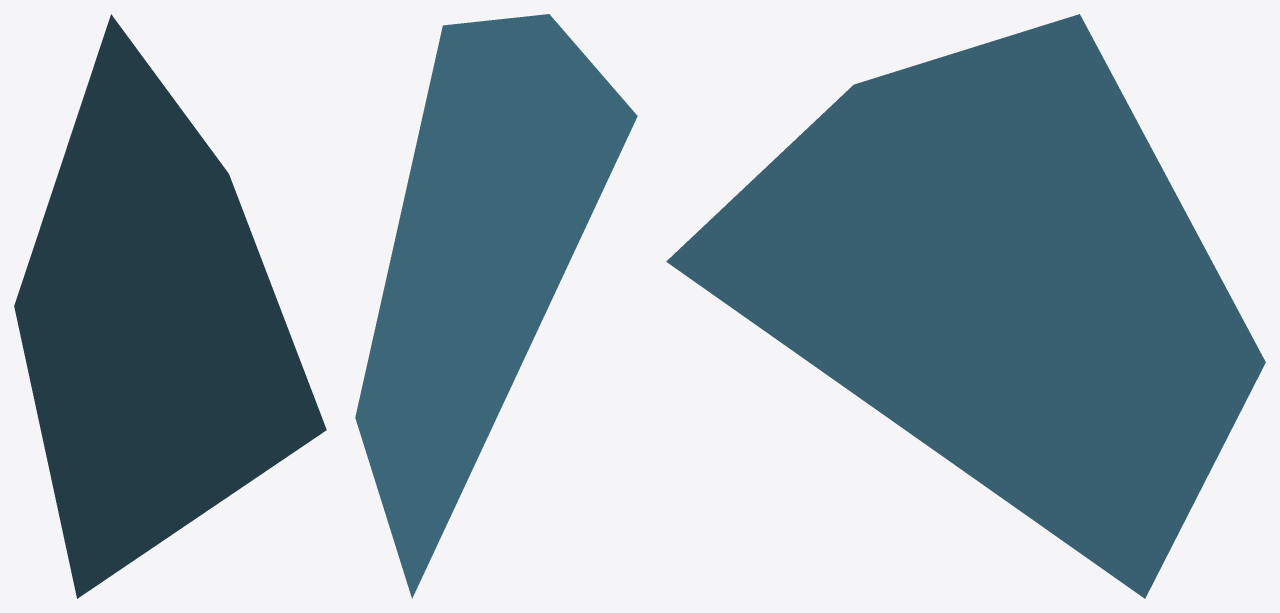
File: NexusC_Cloth_26.fbx
3 renders of one model, left to right at view 1: azimuth 30°, elevation 25°; view 2: azimuth 150°, elevation 25°; view 3: azimuth 270°, elevation 25°, orthographic. The views are drawn at different scales.
Parts seen in each view (by area): view 1: polySurface37; view 2: polySurface37; view 3: polySurface37.
Boxes of the visible parts, <box> form: polySurface37: <box>14,14,326,598</box>; polySurface37: <box>355,14,637,598</box>; polySurface37: <box>666,14,1265,598</box>.
Size of the model in its own units: 0 by 28.98 by 26.93.
